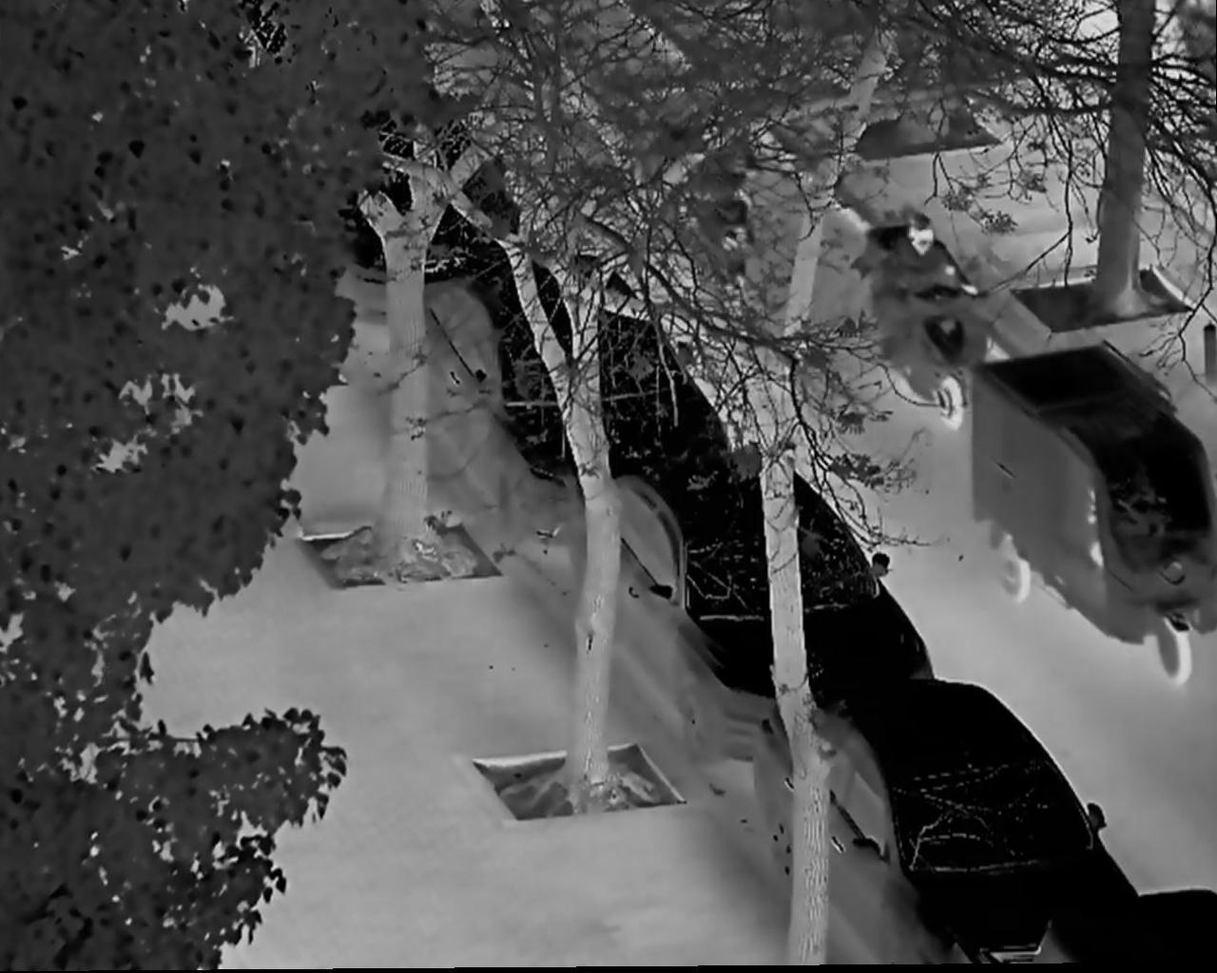person: (889, 214, 976, 374)
